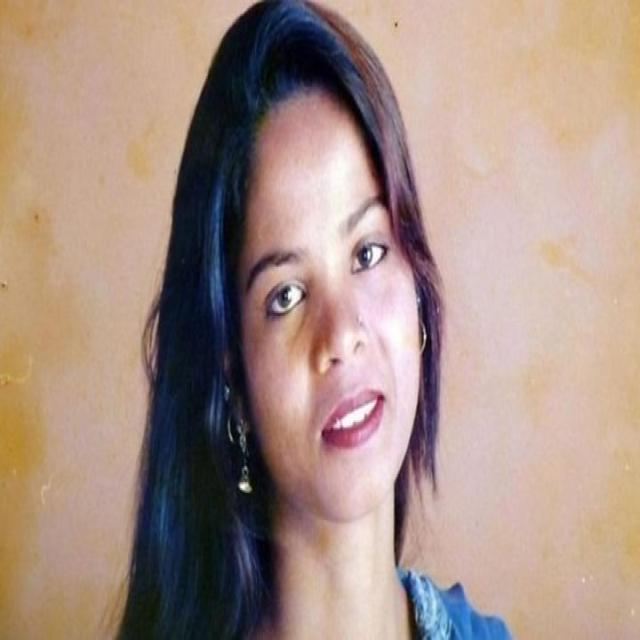human: (137, 5, 512, 640)
